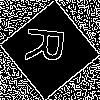R: (25, 25, 74, 66)
